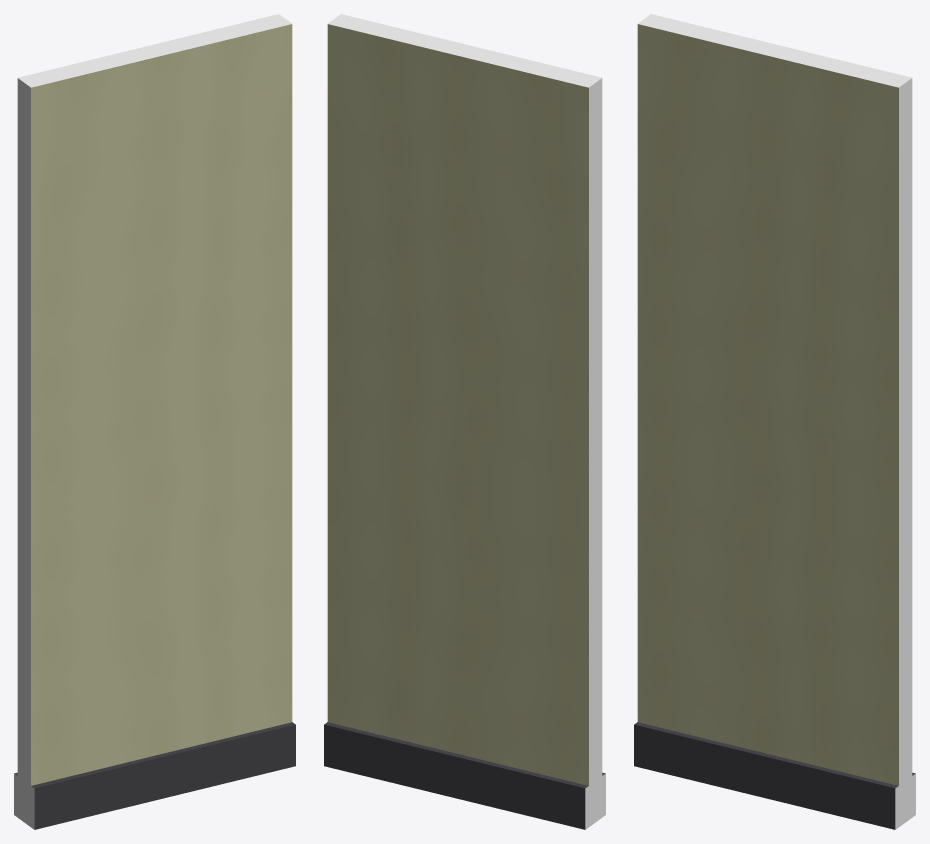
File: SM_Buildings_Wall_1x3_01_DoubleWallpaper.fbx
3 renders of one model, left to right at view 1: azimuth 30°, elevation 25°; view 2: azimuth 150°, elevation 25°; view 3: azimuth 330°, elevation 25°, orthographic.
Parts seen in each view (by area): view 1: SM_Buildings_Wall_1x3_01_DoubleWallpaper; view 2: SM_Buildings_Wall_1x3_01_DoubleWallpaper; view 3: SM_Buildings_Wall_1x3_01_DoubleWallpaper.
Boxes of the visible parts, x1,y1,x2,y2 form: SM_Buildings_Wall_1x3_01_DoubleWallpaper: (14, 14, 295, 829); SM_Buildings_Wall_1x3_01_DoubleWallpaper: (324, 14, 605, 829); SM_Buildings_Wall_1x3_01_DoubleWallpaper: (634, 14, 915, 829).
Size of the model in its own units: 111 by 300 by 15.
1 material, 1 textured.
